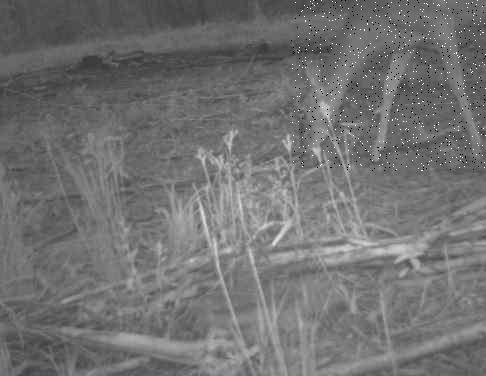Deer: (291, 0, 486, 171)
